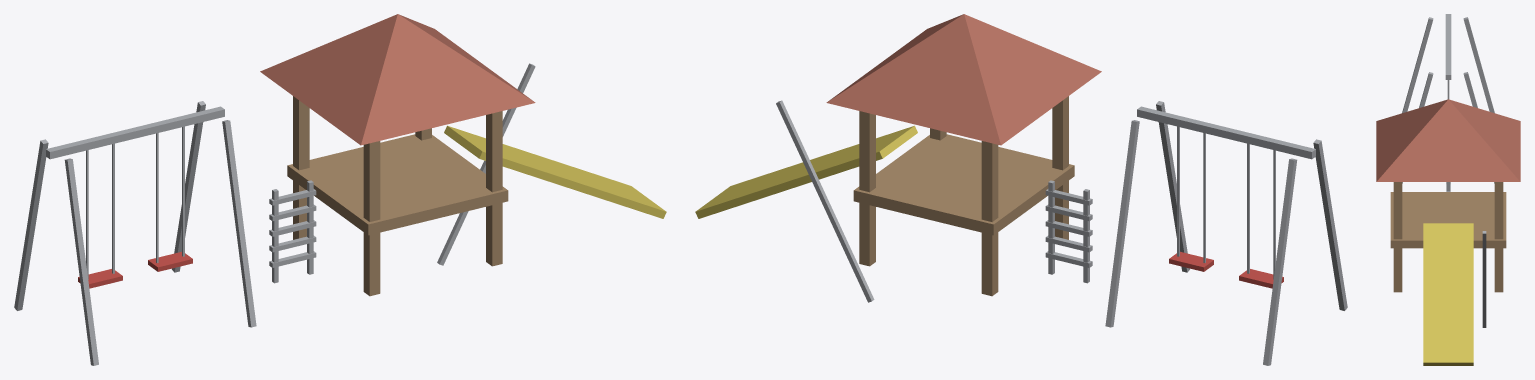
File: Oyun_Parki.glb
The picture shows the model from 3 angles, left to right: view 1: azimuth 30°, elevation 25°; view 2: azimuth 150°, elevation 25°; view 3: azimuth 270°, elevation 25°; orthographic projection. The views are drawn at different scales.
Parts seen in each view (by area): view 1: Oyun_Parki; view 2: Oyun_Parki; view 3: Oyun_Parki.
Boxes of the visible parts, box(x1,y1,x2,y2) form: Oyun_Parki: box(14, 14, 666, 365); Oyun_Parki: box(695, 14, 1347, 365); Oyun_Parki: box(1376, 14, 1520, 365).
Size of the model in its own units: 6.87 by 3.13 by 2.
